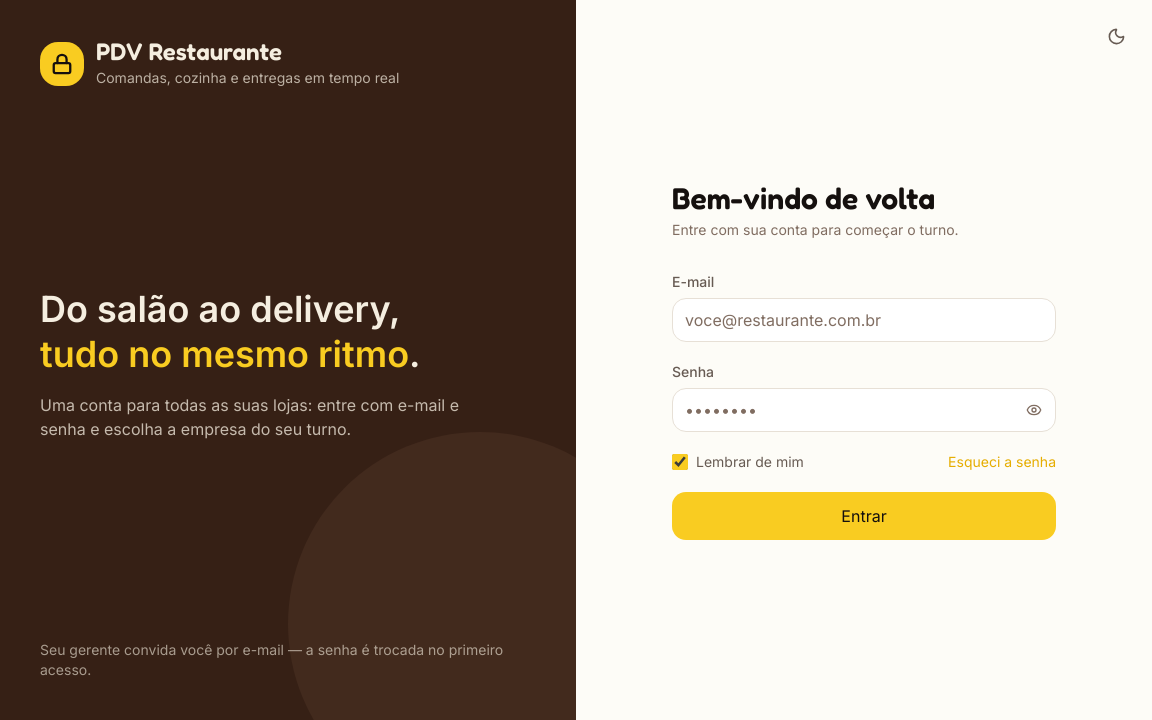
Test case: LoginPage — e-mail + senha › muitas tentativas tem mensagem própria
The width and height of the screenshot is (1152, 720).
Type "ana@pdv.local" into the field labelled "E-mail".
click(864, 320); type("ana@pdv.local")  # box [672,298,1056,342]
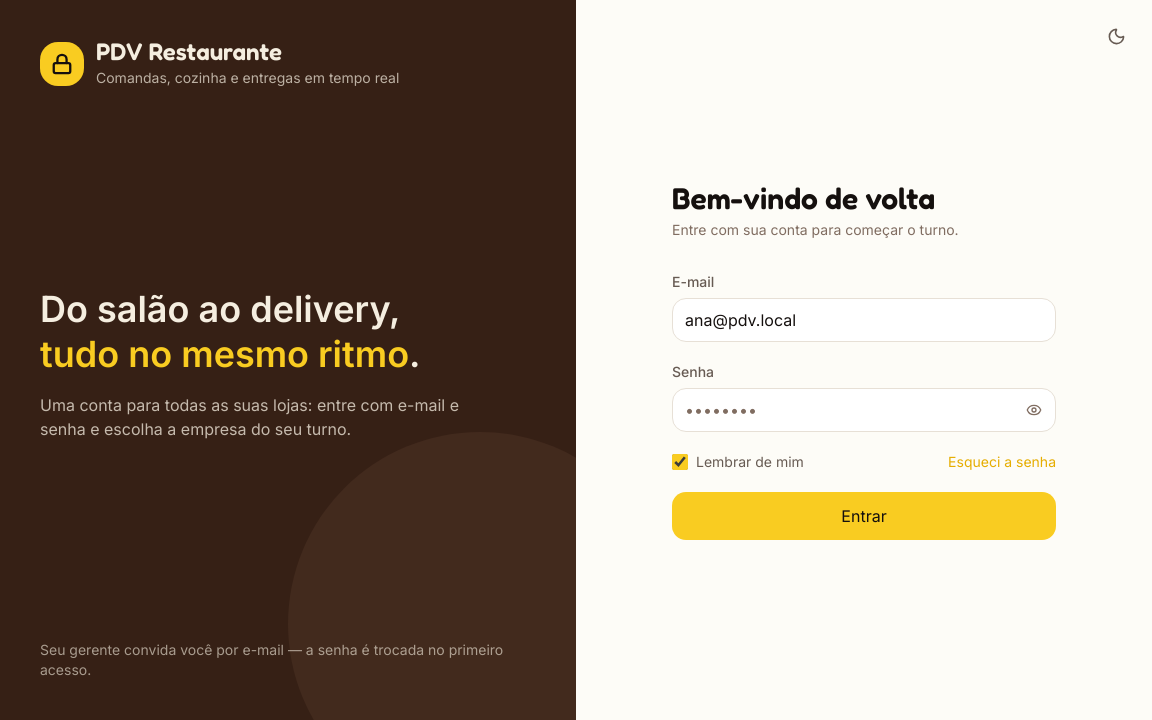
Type "segredo" into the password field labelled "Senha".
click(864, 410); type("segredo")  # box [672,388,1056,432]
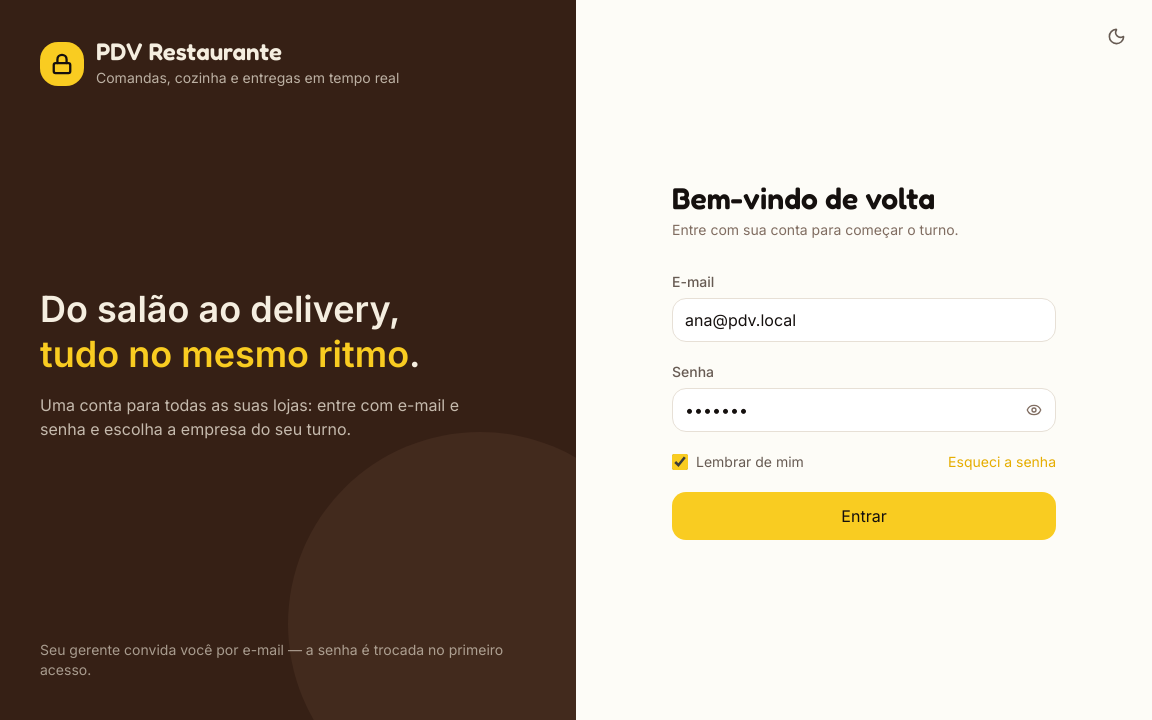
Click the checkbox labelled "Lembrar de mim".
click(680, 462)  # box [672,454,688,470]
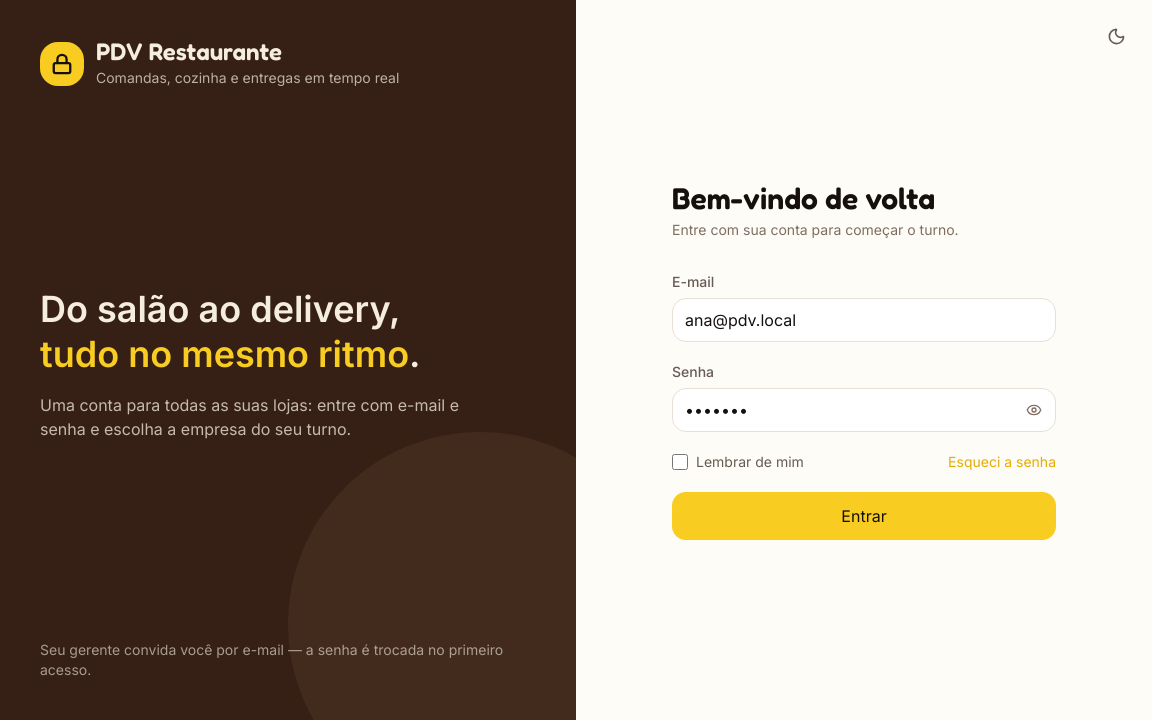
Click the button "Entrar".
click(864, 516)  # box [672,492,1056,540]
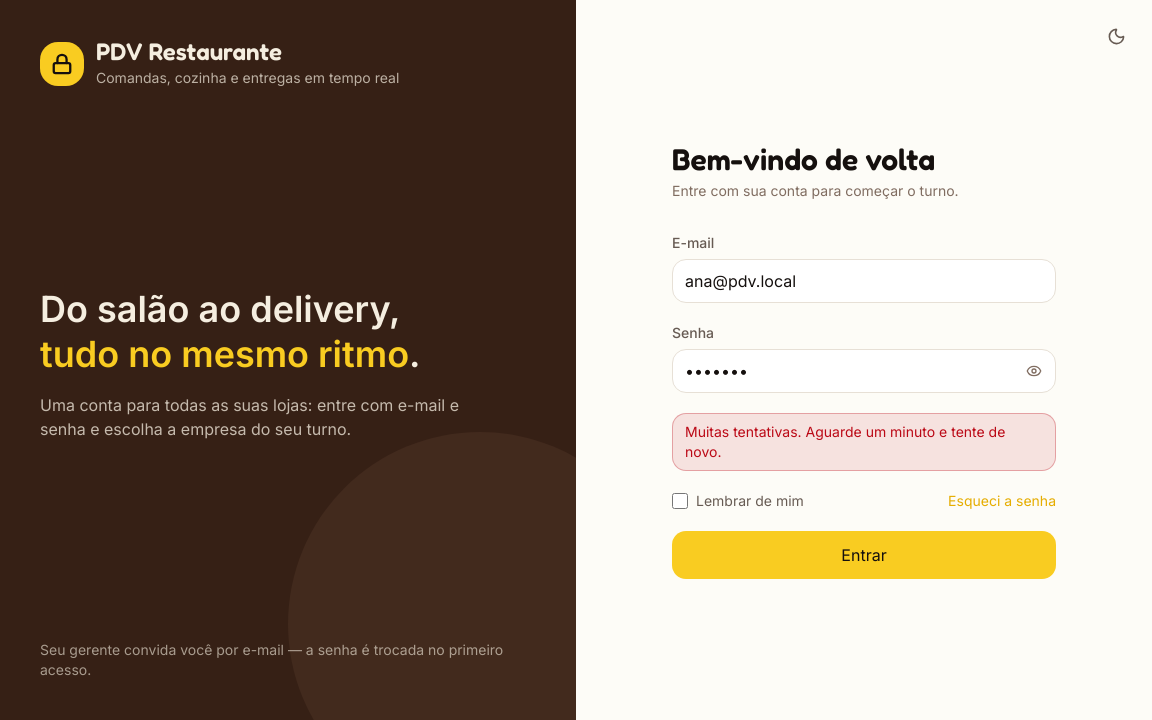
Expected: the text "Muitas tentativas. Aguarde um minuto e tente de novo." is shown, [672,413,1056,471]
